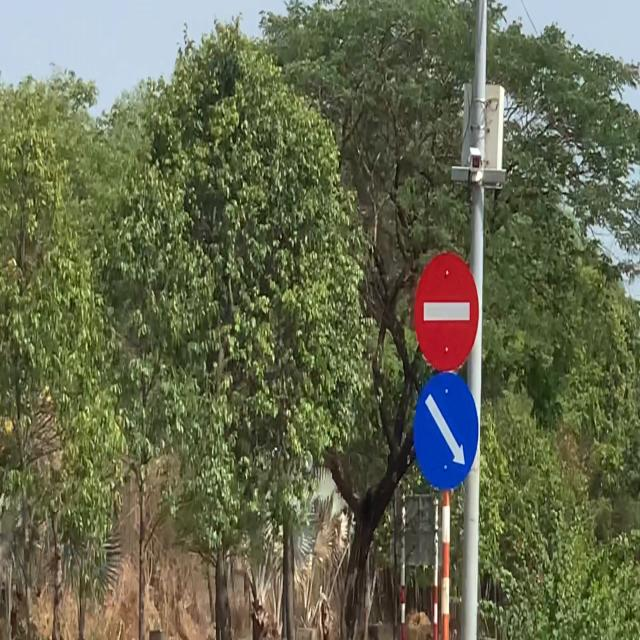Cam nguoc chieu: (413, 252, 479, 372)
Hieu lenh: (413, 371, 479, 492)
